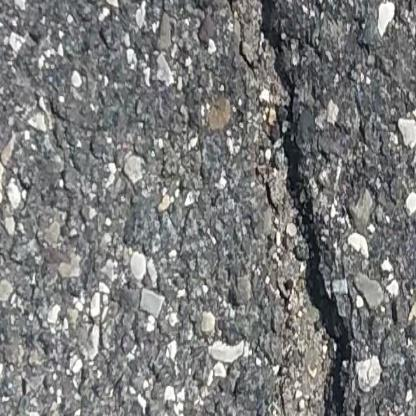Cracks: (214, 0, 358, 416)
